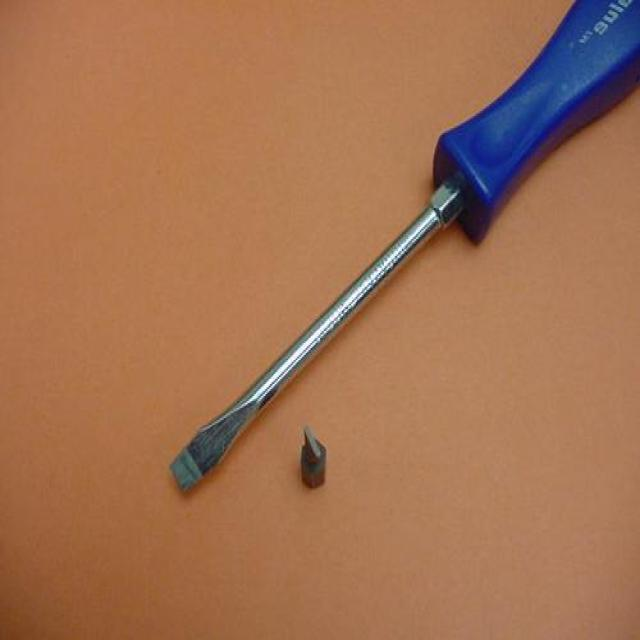screw driver: (118, 0, 640, 517)
